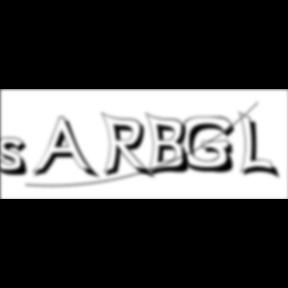A: (32, 116, 102, 182)
B: (146, 111, 196, 179)
G: (182, 116, 242, 176)
L: (239, 110, 283, 182)
R: (102, 112, 158, 182)
s: (1, 137, 36, 179)
